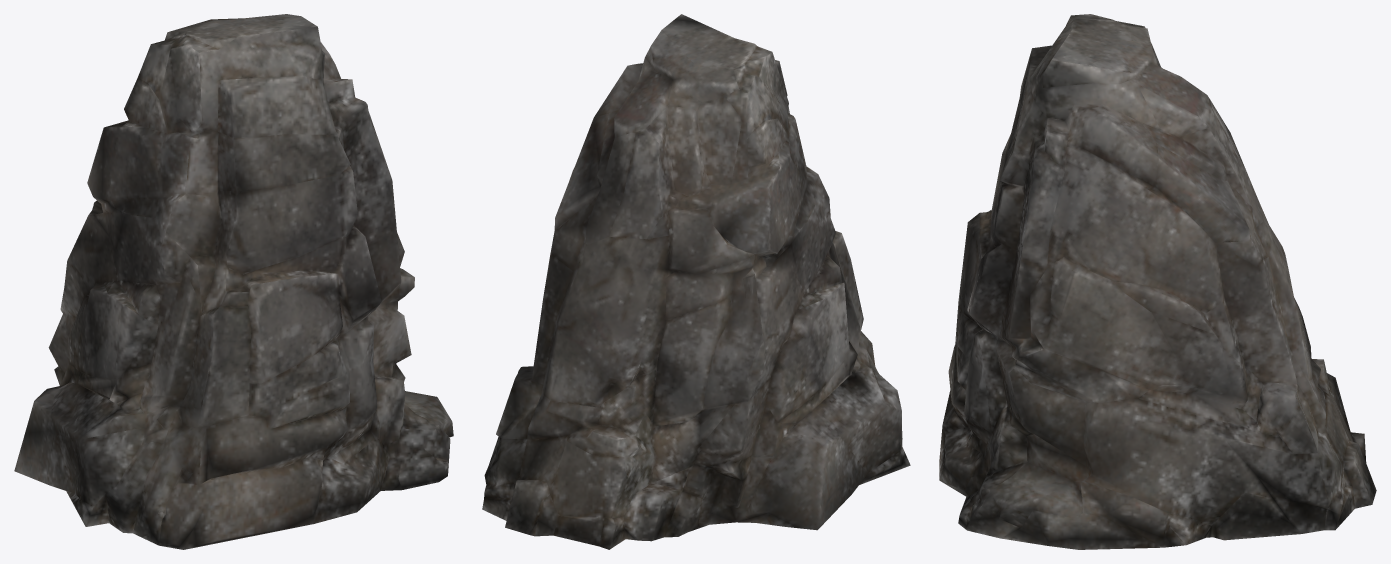
The model's file is bigrock.glb.
3 views of the same model, side by side, from view 1: azimuth 30°, elevation 25°; view 2: azimuth 150°, elevation 25°; view 3: azimuth 270°, elevation 25° (orthographic). The views are drawn at different scales.
Visible parts, largest first — view 1: low_poly__0; view 2: low_poly__0; view 3: low_poly__0.
Boxes of the visible parts, x1,y1,x2,y2 form: low_poly__0: (14, 14, 453, 549); low_poly__0: (482, 14, 910, 549); low_poly__0: (939, 14, 1376, 549).
Size of the model in its own units: 0.0223 by 0.027 by 0.0243.
Materials: 1 (1 with a texture image).
